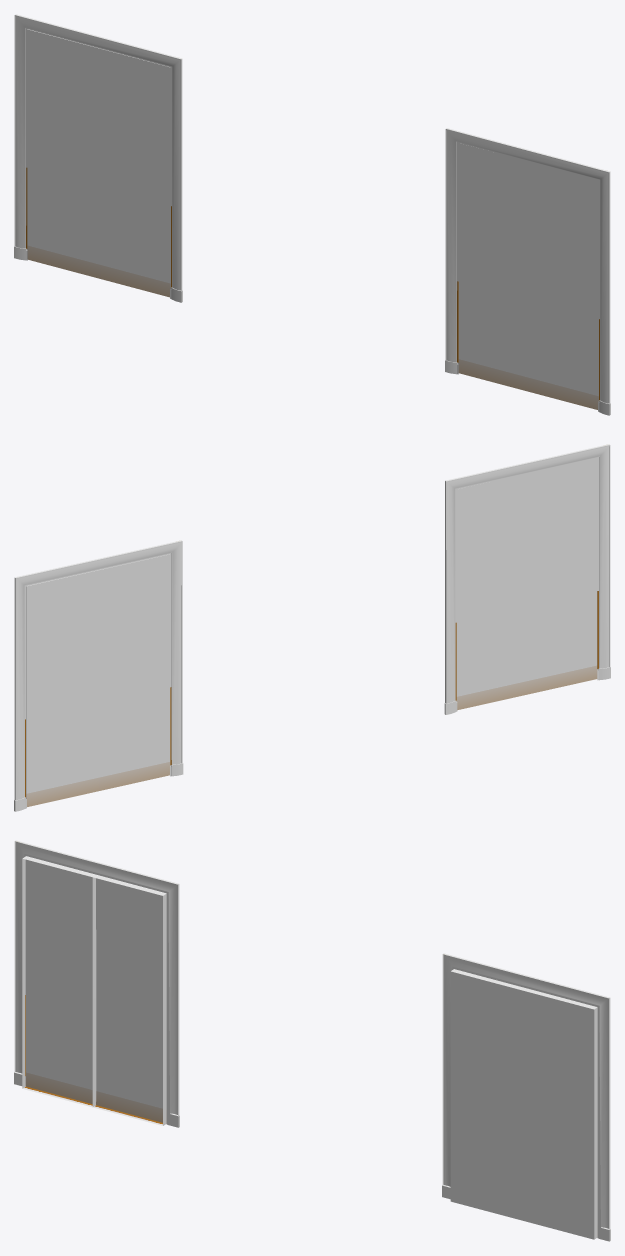
The model's file is Sceene2Door_SalonMozart.fbx.
3 renders of one model, top to bottom at view 1: azimuth 90°, elevation 25°; view 2: azimuth 150°, elevation 25°; view 3: azimuth 270°, elevation 25°, orthographic. The views are drawn at different scales.
Visible parts, largest first — view 1: polySurface111; view 2: polySurface111; view 3: polySurface111.
Boxes of the visible parts, x1,y1,x2,y2 form: polySurface111: (14, 14, 610, 415); polySurface111: (14, 444, 610, 811); polySurface111: (14, 840, 610, 1241).
Size of the model in its own units: 315 by 225 by 501.
